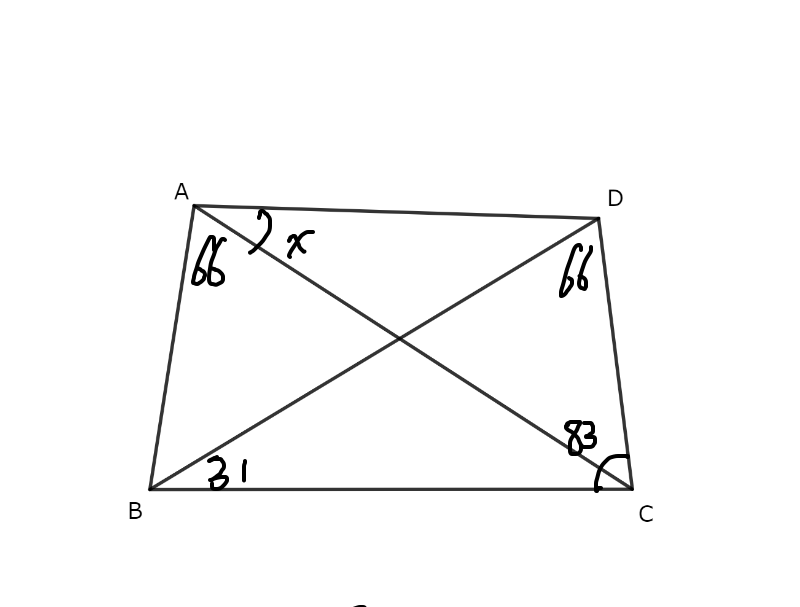Angle_Scurve: (240, 199, 280, 261), (587, 452, 636, 496)
